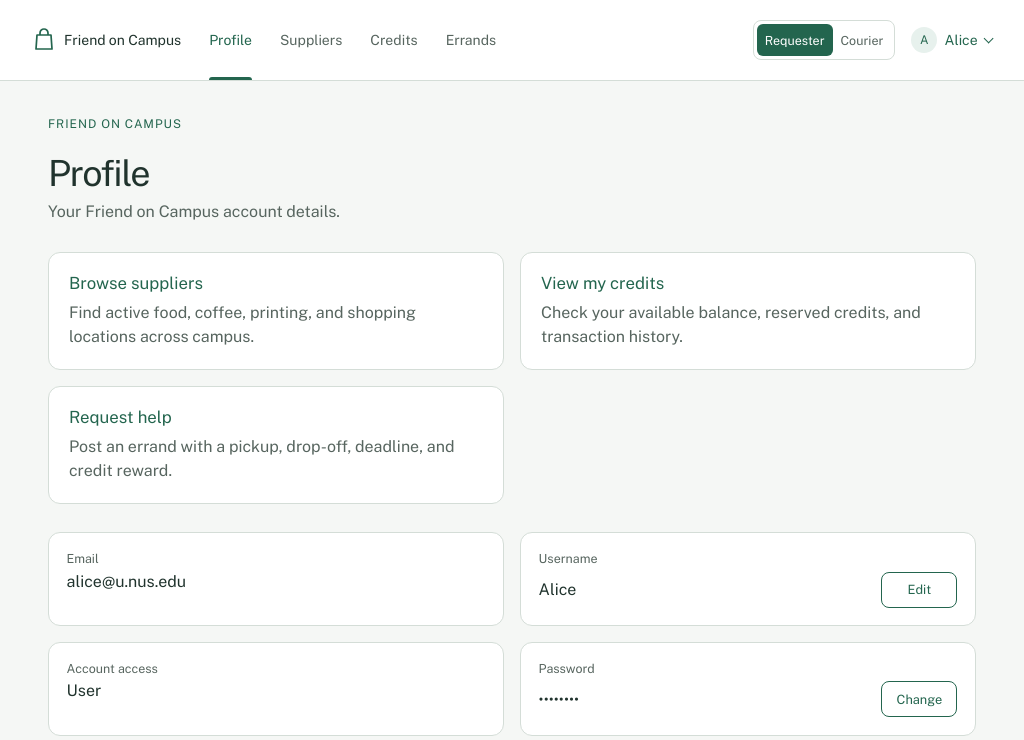
it: does not submit an invalid username from the profile screen
Click the button with aria-label "Edit username": point(919, 590) [881,572,957,608]
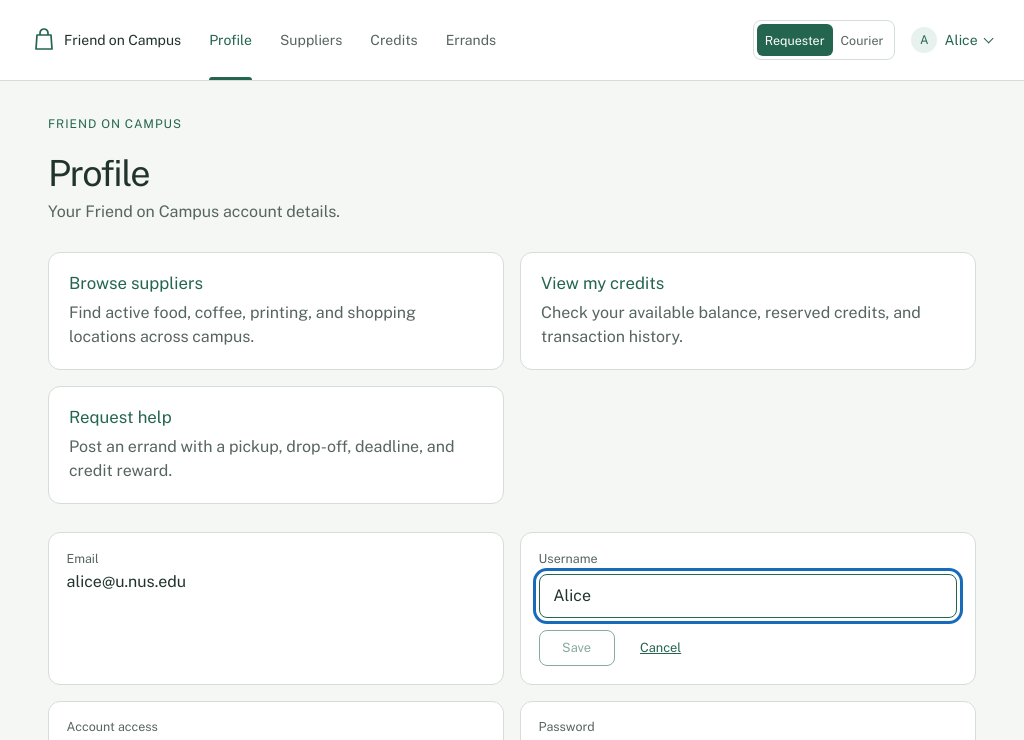
Clear the field named "Username": point(748, 596) [539,574,957,618]
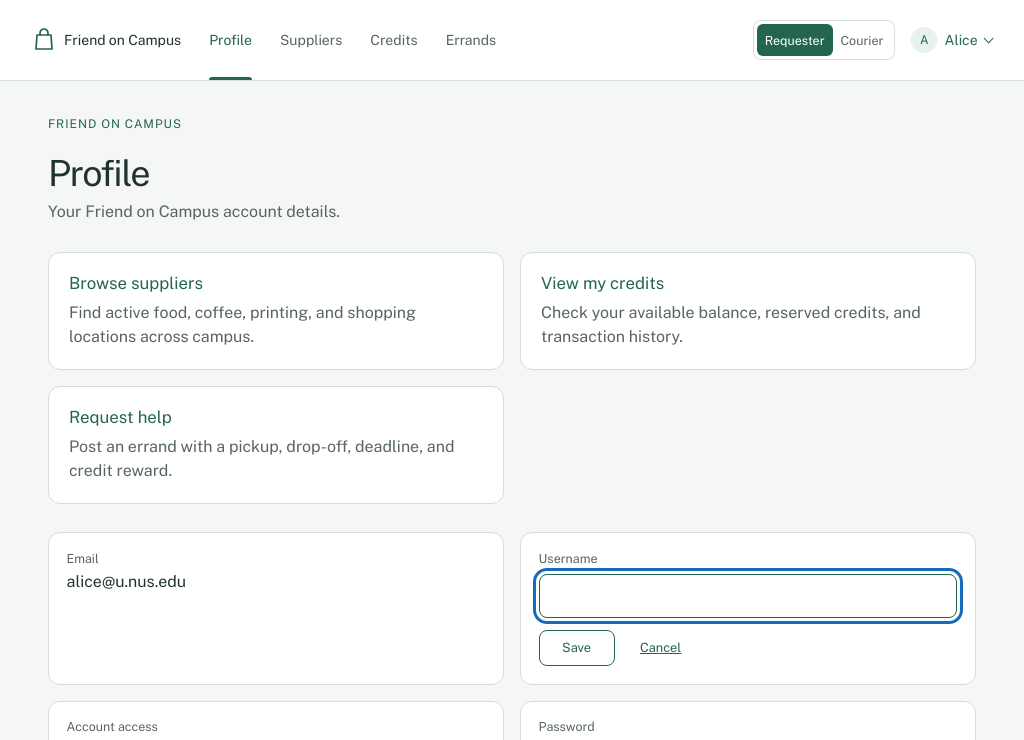
Click the button "Save": point(577, 648) [539,630,615,666]
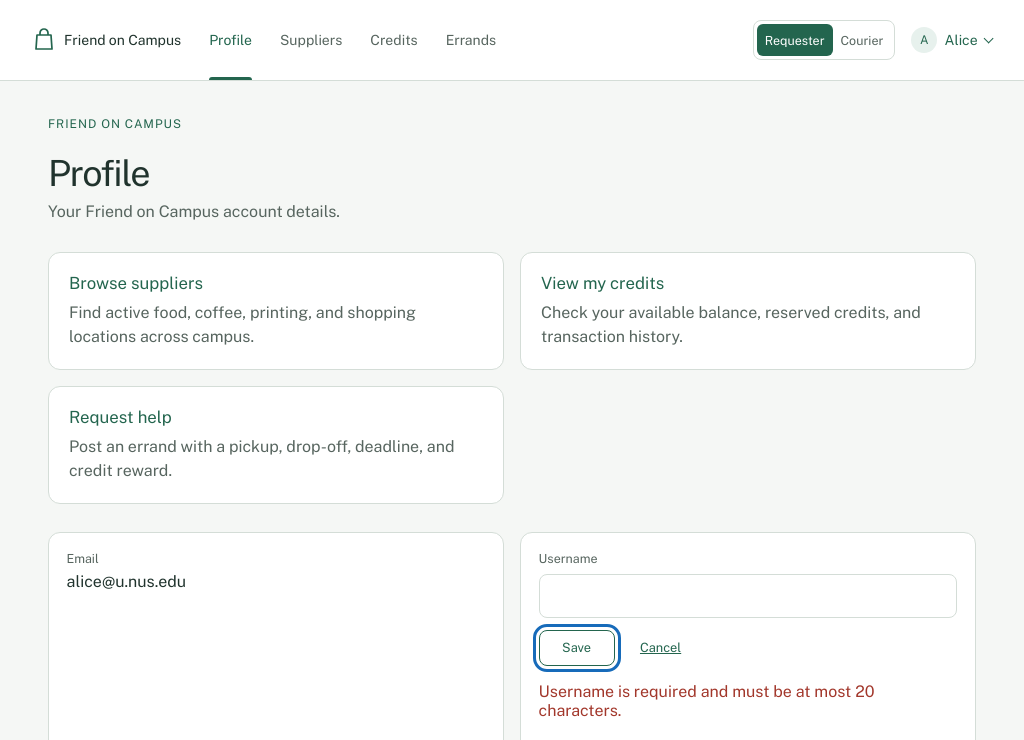
Result: the message reads "Username is required and must be at most 20 characters." at [539,682,874,720]
